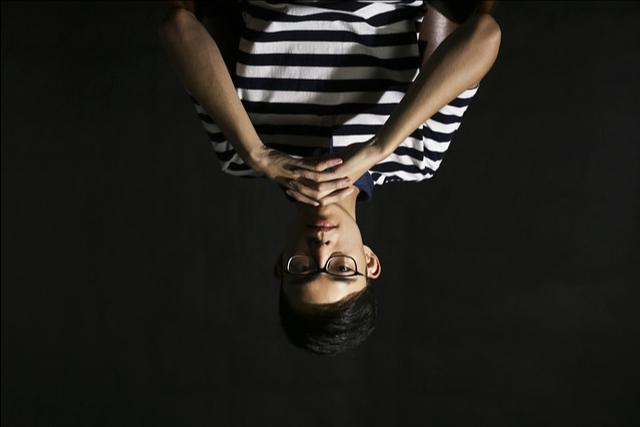Non_Gorille: (141, 0, 516, 382)
